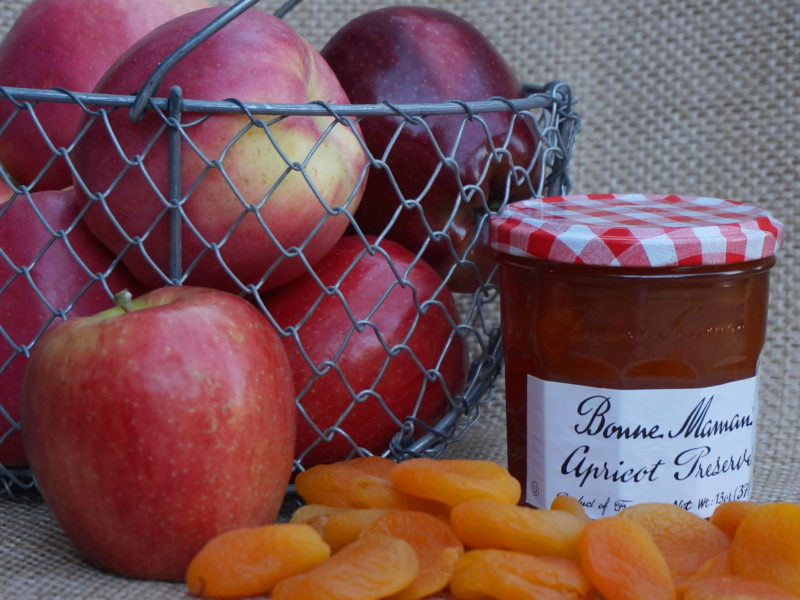elma: (23, 285, 296, 577)
